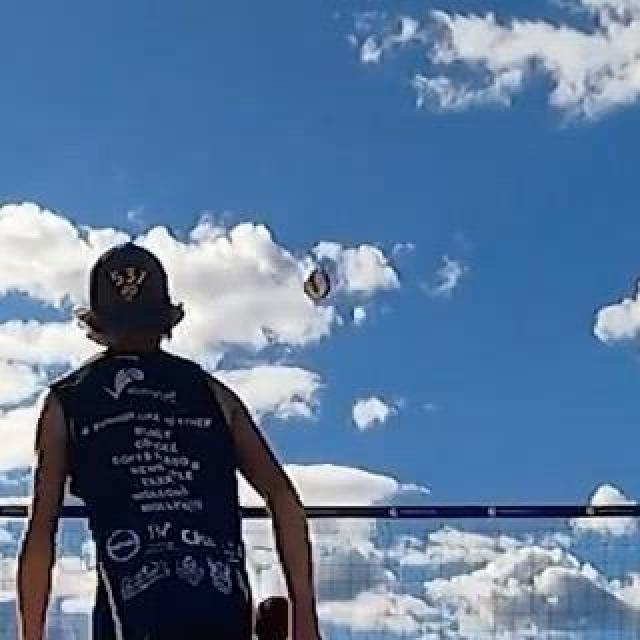volleyball: (306, 273, 334, 301)
